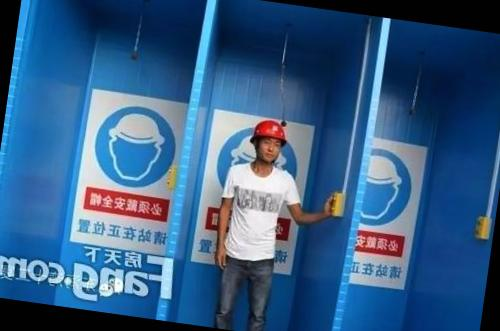helmet: (248, 113, 288, 146)
no_vest: (202, 158, 309, 282)
person: (196, 105, 321, 331)
